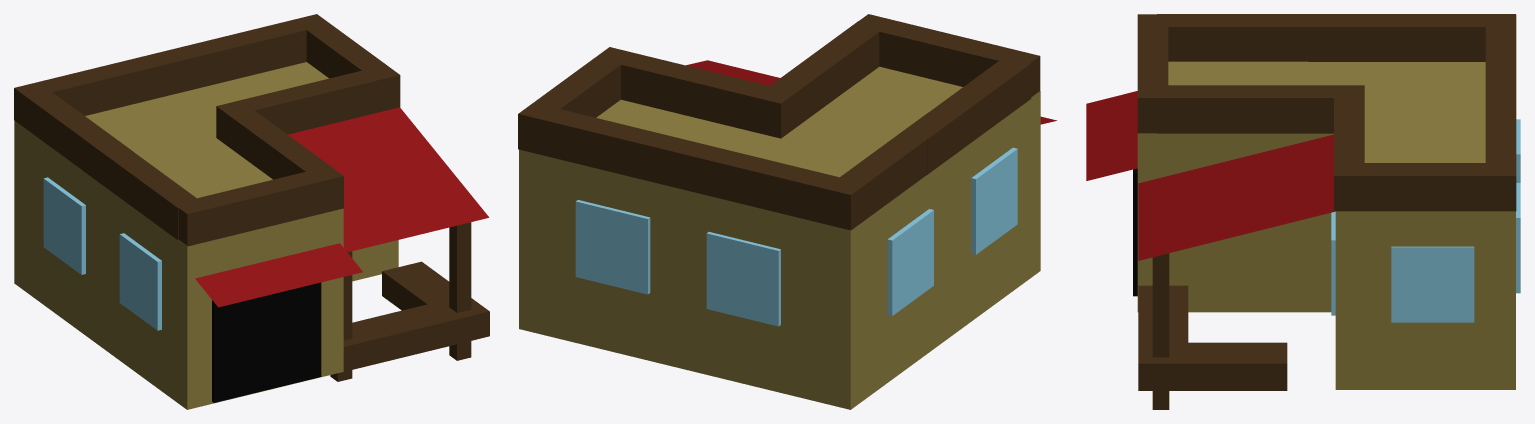
The model's file is House.fbx.
The picture shows the model from 3 angles, left to right: view 1: azimuth 30°, elevation 25°; view 2: azimuth 150°, elevation 25°; view 3: azimuth 270°, elevation 25°; orthographic projection. The views are drawn at different scales.
Parts seen in each view (by area): view 1: Cube, Plane, Cube.009, Cube.012, Cube.005, Cube.006, Cube.001, Cube.008, Plane.001, Cube.007, Cube.010, Cube.013 (+5 smaller); view 2: Cube, Cube.009, Cube.006, Cube.007, Cube.008, Cube.005, Cube.016, Cube.015, Cube.010, Cube.013, Cube.014, Cube.011 (+1 smaller); view 3: Cube, Plane, Cube.007, Cube.010, Cube.008, Cube.002, Cube.011, Cube.017, Cube.009, Plane.001, Cube.006, Cube.005 (+5 smaller).
Boxes of the visible parts, x1,y1,x2,y2 form: Cube: (14,62,398,409); Plane: (288,107,488,252); Cube.009: (16,14,330,115); Cube.012: (212,282,321,402); Cube.005: (174,166,343,246); Cube.006: (241,65,400,134); Cube.001: (343,304,476,371); Cube.008: (83,132,199,239); Plane.001: (195,243,362,307); Cube.007: (216,100,334,179); Cube.010: (14,82,130,170); Cube.013: (119,233,161,330); Cube: (519,66,1040,409); Cube.009: (518,102,864,229); Cube.006: (594,47,776,133); Cube.007: (754,21,884,138); Cube.008: (901,57,1031,174); Cube.005: (854,14,1040,96); Cube.016: (575,200,650,294); Cube.015: (706,232,780,326); Cube.010: (825,112,937,230); Cube.013: (971,147,1017,254); Cube.014: (887,209,933,315); Cube.011: (534,57,622,117); Cube: (1137,61,1515,389); Plane: (1138,134,1334,260); Cube.007: (1157,85,1364,133); Cube.010: (1308,14,1515,61); Cube.008: (1157,14,1364,61); Cube.002: (1138,342,1287,390); Cube.011: (1361,163,1504,211); Cube.017: (1391,246,1474,322); Cube.009: (1485,14,1516,211); Plane.001: (1086,91,1137,180); Cube.006: (1334,94,1364,211); Cube.005: (1137,14,1168,133).
Size of the model in its own units: 1552 by 1058 by 1735.
